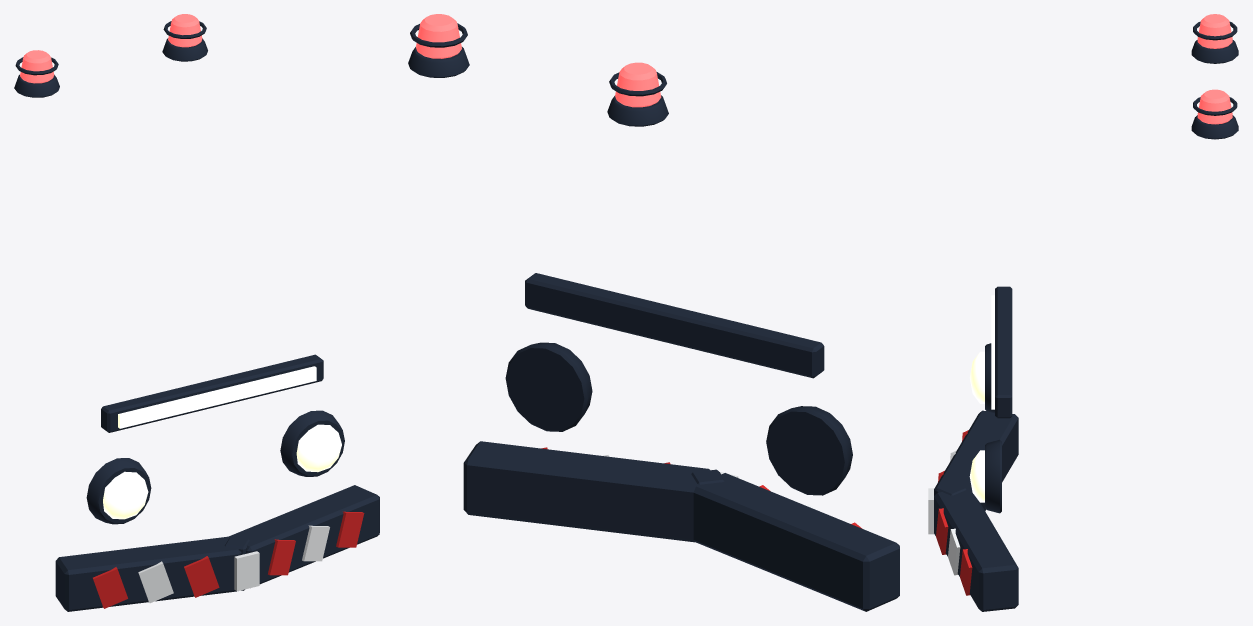
The model's file is tren_movil_extra.glb.
3 renders of one model, left to right at view 1: azimuth 30°, elevation 25°; view 2: azimuth 150°, elevation 25°; view 3: azimuth 270°, elevation 25°, orthographic. The views are drawn at different scales.
Parts seen in each view (by area): view 1: Tren_Movil_Extra; view 2: Tren_Movil_Extra; view 3: Tren_Movil_Extra.
Part boxes in pixels (x1,y1,x2,y2): Tren_Movil_Extra: [14, 14, 379, 611]; Tren_Movil_Extra: [408, 14, 899, 611]; Tren_Movil_Extra: [928, 14, 1238, 611].
Bounding box in the file's own units: 2.21 × 3.07 × 1.8.
